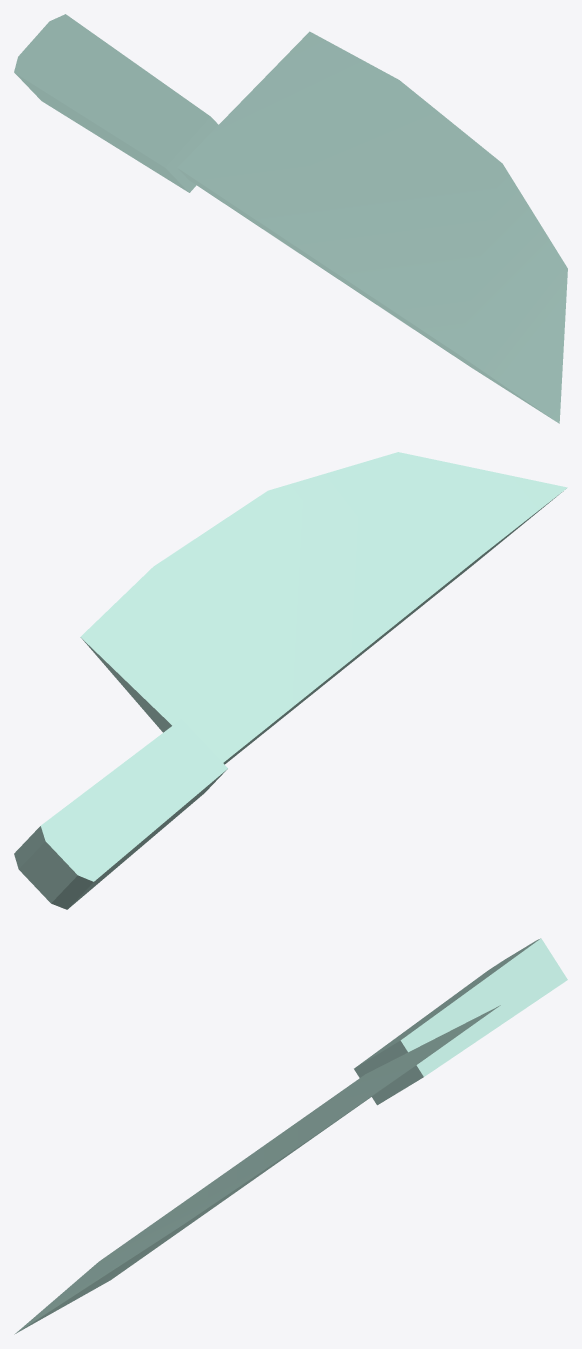
File: Prop_ButcherKnife_00_dummy.FBX
3 renders of one model, top to bottom at view 1: azimuth 30°, elevation 25°; view 2: azimuth 150°, elevation 25°; view 3: azimuth 330°, elevation 25°, orthographic.
Visible parts, largest first — view 1: Duumy_ButcherKnife; view 2: Duumy_ButcherKnife; view 3: Duumy_ButcherKnife.
Boxes of the visible parts, box(x1,y1,x2,y2) form: Duumy_ButcherKnife: box(14, 14, 567, 423); Duumy_ButcherKnife: box(14, 452, 567, 909); Duumy_ButcherKnife: box(14, 938, 567, 1334).
Size of the model in its own units: 5.33 by 4.72 by 29.43.
